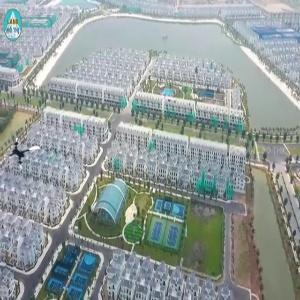drone: (7, 136, 43, 172)
